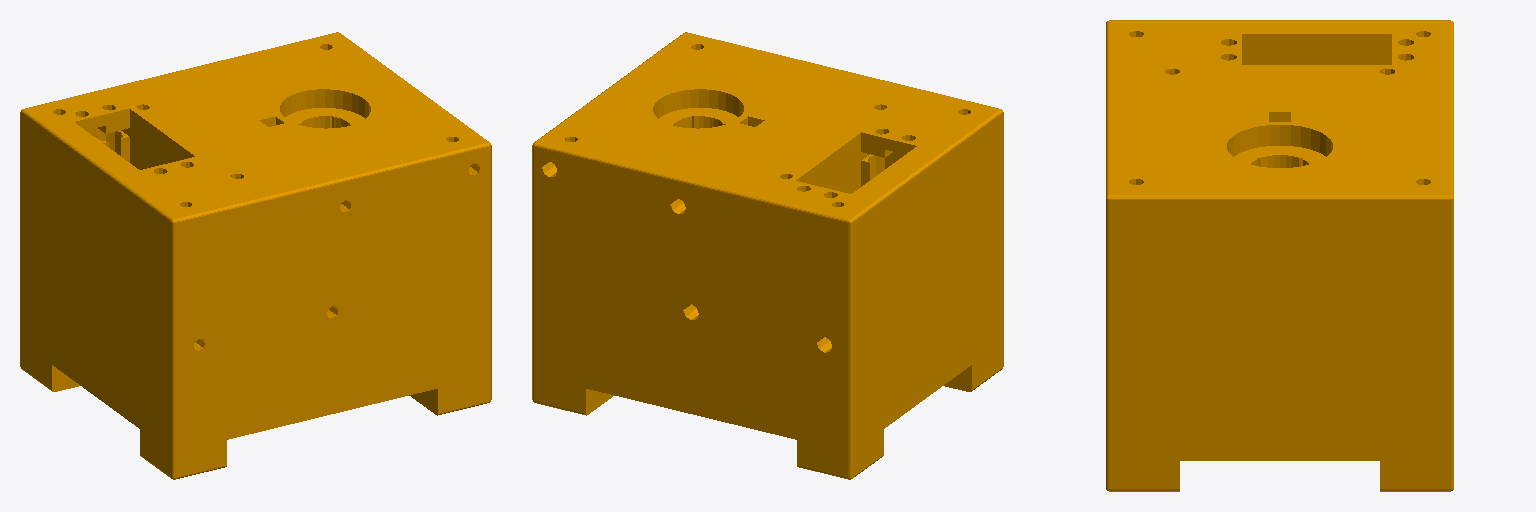
The robot description file, URDF, robot "visual":
<?xml version="1.0"?>

<robot name="visual">
  <link name="base_link">
 <origin xyz="0 0 0 " rpy=" 0 0 0"/>
    <visual>
      <geometry>
        <mesh filename="package://strokeRehabSystem/models/ConjoinedBase.dae"/>
      </geometry>
      <material name="blue"/>
    </visual>
  </link>

  <link name="Link2">
    <origin xyz="0 -0.06 .159 " rpy=" 0 0 3.14159"/>
    <visual>
      <geometry>
        <mesh filename="package://strokeRehabSystem/models/Link2.dae"/>
      </geometry>
      <material name="blue"/>
    </visual>
  </link>

  <joint name="joint0" type="revolute">
    <origin xyz="0 -0.06 .159" rpy=" 0 0 3.14159"/>
    <parent link="base_link"/>
    <child link="Link2"/>
    <limit effort="1.0" lower="0" upper="6" velocity="1.0"/>
    <axis xyz = "0 0 1"/>
  </joint>



  <link name="Link3">
    <origin xyz="0 0 0 " rpy=" 0 0 0"/>
     <visual>
      <geometry>
        <mesh filename="package://strokeRehabSystem/models/Link3.dae"/>
      </geometry>
      <material name="blue"/>
    </visual>
  </link>

  <joint name="joint1" type="revolute">
    <origin xyz="0.07 0 0" rpy=" 0 0 0"/>
    <parent link="Link2"/>
    <child link="Link3"/>
    <limit effort="1.0" lower="0" upper="6" velocity="1.0"/>
    <axis xyz = "0 1 0"/>
  </joint>

  <link name="Link4">
    <origin xyz="-0.17 -0.025 -.2" rpy=" 0 0 0"/>
     <visual>
      <geometry>
        <mesh filename="package://strokeRehabSystem/models/Link4.dae"/>
      </geometry>
      <material name="blue"/>
    </visual>
  </link>

  <joint name="joint2" type="revolute">
    <origin xyz="-0.17 -0.025 0" rpy=" 0 0 0"/>
    <parent link="Link3"/>
    <child link="Link4"/>
    <limit effort="1.0" lower="0" upper="6" velocity="1.0"/>
    <axis xyz = "0 1 0"/>
  </joint>
</robot>

--- Facts derived from the render (not from the file) ---
3 views of the same robot in one strip: view 1: azimuth 30°, elevation 25°; view 2: azimuth 150°, elevation 25°; view 3: azimuth 270°, elevation 25° (orthographic).
Model visual with 4 links and 3 joints (3 revolute), rooted at base_link, posed all joints at 0.
Visible links, largest first — view 1: base_link; view 2: base_link; view 3: base_link.
Boxes of the visible links, x1=… form: base_link: x1=20, y1=32, x2=491, y2=479; base_link: x1=532, y1=32, x2=1003, y2=479; base_link: x1=1106, y1=20, x2=1453, y2=491.
Bounding box of the posed robot: 0.1143 × 0.095 × 0.0889 m (x, y, z).
Meshes: 4 distinct files referenced, 1 mesh visuals loaded (1 Collada DAE); not drawn: 3 (reference not matched to a file when rendering).